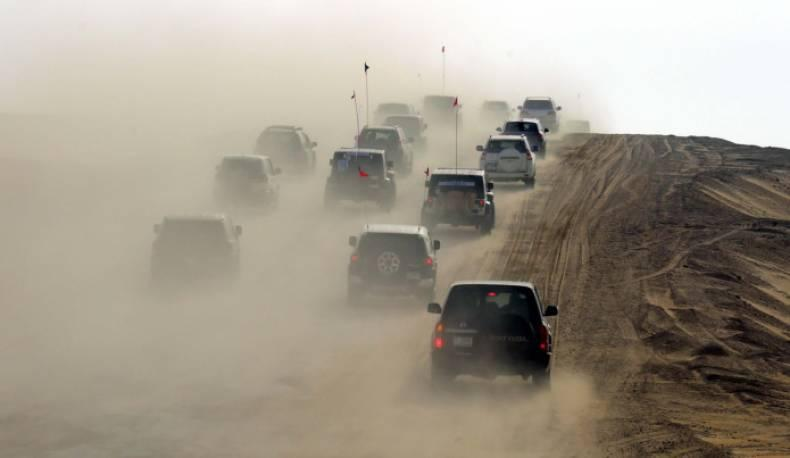airplane: (101, 170, 398, 316), (218, 125, 313, 202), (213, 146, 277, 252), (149, 216, 243, 285), (326, 150, 395, 212), (254, 125, 317, 179), (338, 134, 402, 187), (330, 149, 386, 174)
bench: (152, 216, 242, 281), (215, 155, 279, 218), (252, 126, 316, 179)
boat: (142, 152, 384, 308), (200, 150, 330, 289), (149, 213, 362, 296), (162, 176, 263, 308), (175, 146, 281, 269), (212, 128, 312, 238), (149, 215, 243, 280), (215, 153, 280, 247), (224, 129, 306, 194), (327, 149, 394, 211), (254, 125, 317, 179), (338, 134, 402, 187), (330, 149, 386, 174)
bus: (414, 196, 491, 301), (335, 164, 409, 262), (345, 223, 437, 298), (419, 110, 479, 219), (420, 100, 497, 183), (348, 123, 418, 201), (420, 171, 492, 239), (375, 110, 426, 186), (329, 148, 394, 207), (338, 134, 402, 187), (423, 96, 462, 182), (477, 130, 533, 186), (360, 126, 413, 175), (508, 104, 558, 148), (332, 145, 392, 177), (371, 120, 420, 159), (501, 120, 545, 158), (520, 97, 560, 133), (382, 116, 426, 147), (481, 100, 510, 138)
car: (56, 167, 788, 444), (443, 226, 790, 437), (139, 208, 428, 403), (259, 181, 511, 309), (151, 197, 430, 301), (186, 154, 425, 272), (425, 294, 639, 417), (213, 130, 418, 220), (266, 227, 455, 319), (335, 155, 476, 273), (302, 135, 490, 223), (419, 241, 544, 364), (375, 126, 503, 242), (145, 204, 290, 305), (310, 194, 438, 308), (378, 181, 493, 302), (404, 161, 518, 282), (434, 281, 555, 389), (421, 186, 502, 332), (207, 129, 300, 247), (312, 132, 410, 220), (351, 183, 427, 287), (366, 163, 479, 232), (335, 164, 409, 262), (336, 151, 426, 228), (347, 224, 437, 299), (425, 121, 491, 223), (433, 282, 547, 339), (149, 216, 243, 285), (476, 276, 550, 358), (458, 123, 535, 200), (418, 209, 483, 298), (349, 126, 433, 194), (477, 126, 563, 192), (329, 221, 406, 294), (423, 131, 515, 189), (427, 261, 504, 330), (419, 170, 496, 236), (366, 140, 429, 213), (384, 132, 469, 186), (222, 138, 305, 190), (328, 151, 397, 211), (350, 217, 436, 264), (215, 155, 279, 218), (390, 228, 440, 303), (423, 100, 472, 176), (338, 137, 404, 190), (422, 223, 461, 311), (408, 104, 455, 177), (498, 98, 556, 157), (253, 126, 317, 178), (351, 252, 422, 297), (434, 281, 521, 316), (411, 221, 446, 304), (478, 113, 524, 175), (478, 137, 534, 187), (358, 126, 412, 177), (416, 172, 460, 234), (367, 134, 409, 198), (503, 121, 568, 162), (361, 103, 427, 142), (353, 269, 426, 304), (362, 148, 400, 215), (453, 179, 496, 236), (523, 98, 569, 150), (333, 130, 392, 170), (486, 108, 534, 152), (492, 125, 541, 168), (369, 120, 417, 163), (352, 148, 392, 199), (330, 149, 390, 182), (428, 169, 483, 205), (511, 123, 549, 174), (529, 294, 559, 357), (545, 120, 592, 158), (512, 103, 554, 143), (505, 137, 538, 186), (518, 114, 557, 155), (497, 102, 539, 140), (385, 127, 417, 176), (391, 121, 425, 167), (407, 248, 436, 301), (501, 119, 545, 153), (532, 122, 576, 154), (519, 97, 559, 131), (424, 165, 480, 189), (382, 114, 425, 145), (360, 124, 411, 150), (414, 227, 436, 285), (486, 128, 536, 153), (354, 253, 400, 280), (330, 146, 380, 170), (377, 103, 424, 128), (481, 100, 510, 138), (373, 170, 397, 214), (427, 236, 444, 297), (550, 117, 591, 142), (421, 236, 439, 292), (478, 181, 496, 236), (407, 125, 428, 171), (380, 157, 398, 210), (498, 134, 536, 159), (346, 235, 362, 289), (383, 124, 417, 149), (541, 304, 558, 353), (495, 120, 538, 139), (510, 129, 541, 154), (429, 308, 446, 353), (519, 112, 552, 135), (398, 131, 415, 175), (515, 117, 546, 141), (539, 99, 561, 132), (520, 137, 536, 182), (559, 129, 592, 150), (526, 122, 546, 155), (375, 252, 401, 276), (404, 137, 420, 174), (410, 118, 428, 150), (378, 103, 414, 118), (525, 98, 555, 115), (396, 114, 428, 129), (484, 185, 496, 224), (427, 239, 440, 274), (347, 238, 359, 275), (561, 120, 590, 135), (330, 151, 350, 172), (400, 137, 415, 164), (432, 323, 445, 352), (498, 119, 523, 134), (477, 194, 494, 215), (546, 99, 560, 123), (411, 113, 428, 131), (475, 144, 486, 170), (418, 116, 429, 140), (426, 302, 441, 316)
chair: (151, 215, 242, 283), (253, 126, 317, 178)
laptop: (149, 215, 243, 280)
motorcycle: (433, 281, 553, 389), (354, 130, 408, 198), (481, 131, 537, 191), (253, 125, 316, 178), (477, 179, 496, 237), (473, 193, 491, 233)
parking meter: (542, 304, 559, 353), (432, 321, 446, 351)
person: (151, 177, 267, 316), (346, 227, 434, 299), (215, 155, 277, 249), (419, 170, 490, 242), (338, 134, 402, 187), (481, 131, 537, 191), (253, 125, 315, 177), (362, 126, 411, 178), (362, 148, 400, 215), (352, 148, 392, 199), (500, 119, 547, 157), (518, 114, 557, 155), (385, 127, 417, 176), (419, 235, 439, 299), (477, 179, 496, 237), (501, 294, 530, 331), (378, 158, 397, 212), (427, 303, 446, 352), (481, 291, 500, 335), (541, 305, 557, 353), (371, 252, 400, 277), (509, 296, 529, 319), (502, 295, 526, 314), (485, 182, 496, 213), (498, 294, 514, 312), (426, 302, 441, 321), (475, 145, 486, 170), (485, 291, 498, 309), (422, 167, 432, 190), (358, 163, 370, 179)
skis: (254, 125, 317, 178)
suitcase: (152, 214, 242, 280), (426, 302, 442, 315)
traffic light: (539, 303, 558, 357), (432, 322, 445, 352)
truck: (490, 145, 787, 418), (142, 177, 453, 302), (259, 181, 511, 309), (142, 220, 383, 310), (335, 155, 476, 273), (375, 126, 503, 242), (310, 194, 438, 308), (432, 281, 555, 387), (362, 228, 507, 313), (376, 180, 485, 292), (328, 121, 459, 209), (414, 100, 524, 203), (273, 138, 410, 217), (390, 89, 471, 218), (332, 81, 415, 204), (421, 176, 495, 305), (411, 68, 483, 197), (351, 183, 427, 287), (366, 163, 479, 232), (335, 164, 409, 262), (336, 151, 426, 228), (347, 226, 436, 301), (419, 110, 479, 219), (381, 109, 477, 177), (149, 215, 243, 280), (349, 97, 427, 175), (355, 121, 418, 211), (429, 124, 499, 200), (362, 70, 417, 165), (422, 216, 477, 310), (421, 111, 507, 170), (420, 170, 496, 236), (215, 154, 279, 228), (335, 140, 400, 211), (394, 121, 457, 193), (375, 110, 426, 186), (425, 97, 469, 178), (408, 104, 455, 177), (253, 126, 317, 178), (492, 92, 555, 140), (484, 108, 541, 159), (345, 135, 403, 185), (478, 113, 524, 175), (478, 137, 534, 187), (358, 125, 412, 176), (361, 103, 427, 142), (362, 148, 400, 215), (473, 99, 516, 158), (490, 125, 540, 174), (333, 151, 387, 196), (331, 129, 386, 171), (508, 104, 558, 148), (423, 96, 458, 154), (371, 120, 420, 159), (501, 120, 545, 158), (385, 127, 417, 176), (428, 169, 483, 196), (519, 97, 558, 135), (331, 149, 387, 175), (497, 103, 543, 134), (367, 114, 410, 146), (381, 115, 426, 144), (375, 108, 420, 135), (505, 114, 549, 141), (481, 100, 510, 138), (422, 96, 459, 125), (483, 98, 520, 124), (374, 103, 417, 125), (559, 122, 591, 151), (519, 112, 552, 135), (526, 97, 561, 118), (560, 120, 591, 135), (426, 303, 442, 316)
tv: (147, 215, 242, 280)
umbrella: (528, 139, 787, 436)
